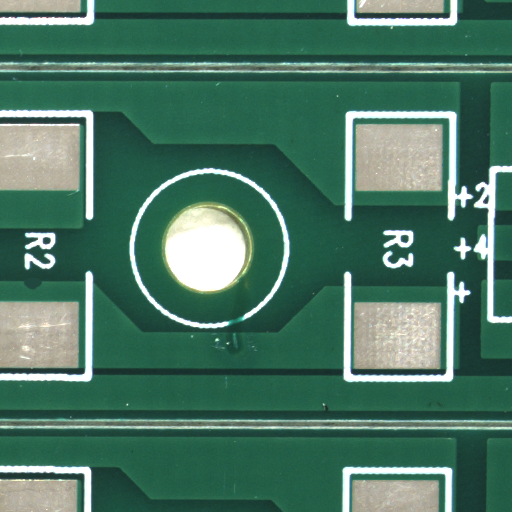Mouse_bite: (32, 283, 51, 294)
